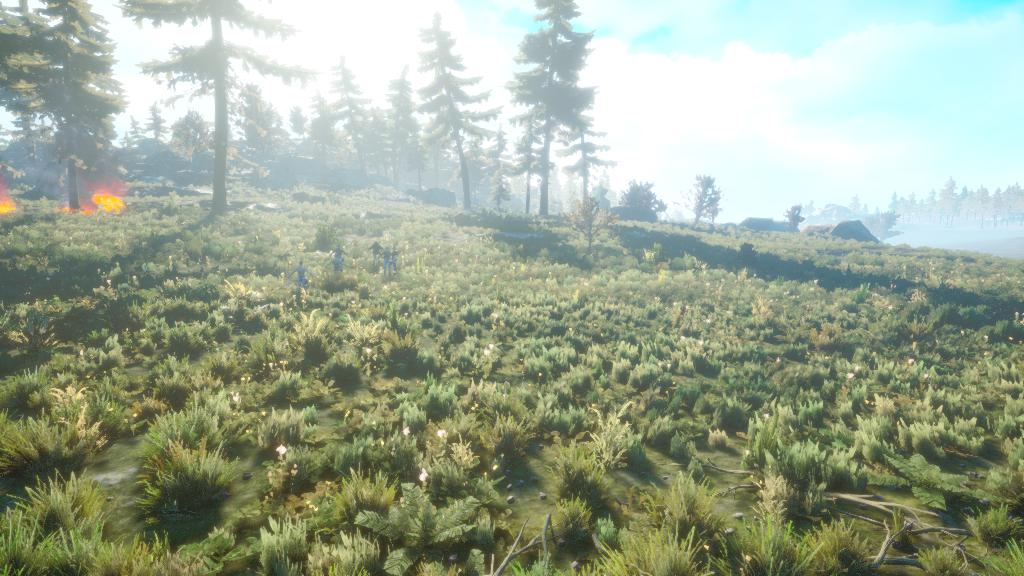Fire: (51, 189, 132, 218), (0, 188, 28, 214)
human: (369, 230, 408, 284), (289, 249, 320, 303), (323, 235, 352, 281)
smoke: (54, 142, 134, 183)
